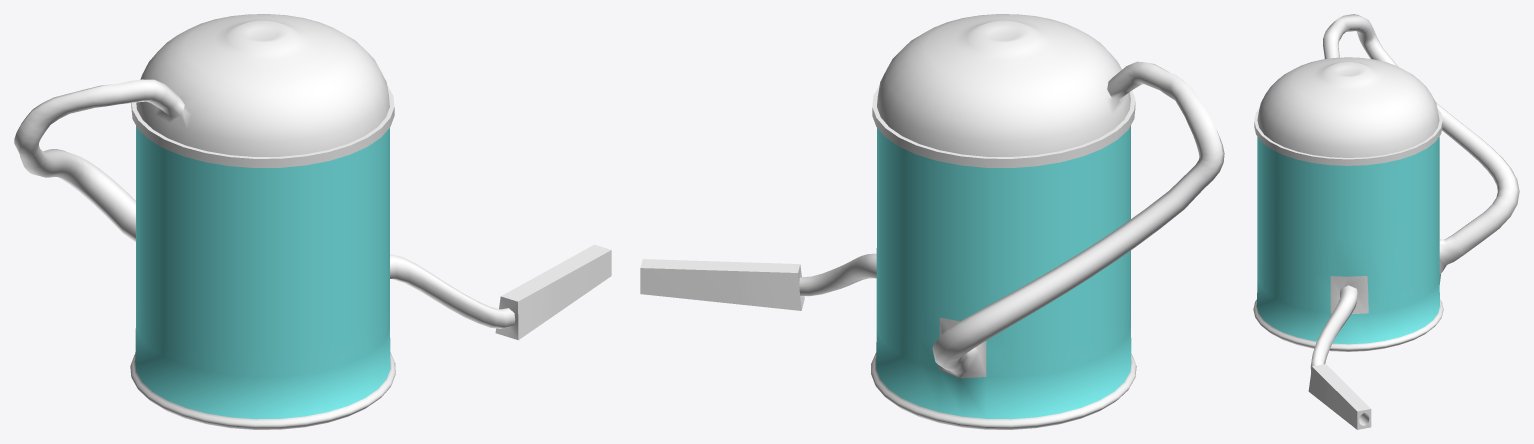
File: Collector Gun Menu Lvl2.fbx
3 views of the same model, side by side, from view 1: azimuth 30°, elevation 25°; view 2: azimuth 150°, elevation 25°; view 3: azimuth 270°, elevation 25° (orthographic). The views are drawn at different scales.
Parts seen in each view (by area): view 1: CollectorGun_2; view 2: CollectorGun_2; view 3: CollectorGun_2.
Boxes of the visible parts, box(x1,y1,x2,y2) form: CollectorGun_2: box(14, 14, 611, 429); CollectorGun_2: box(640, 14, 1224, 429); CollectorGun_2: box(1253, 14, 1519, 429).
Bounding box in the file's own units: 6032 × 3379 × 3346.
